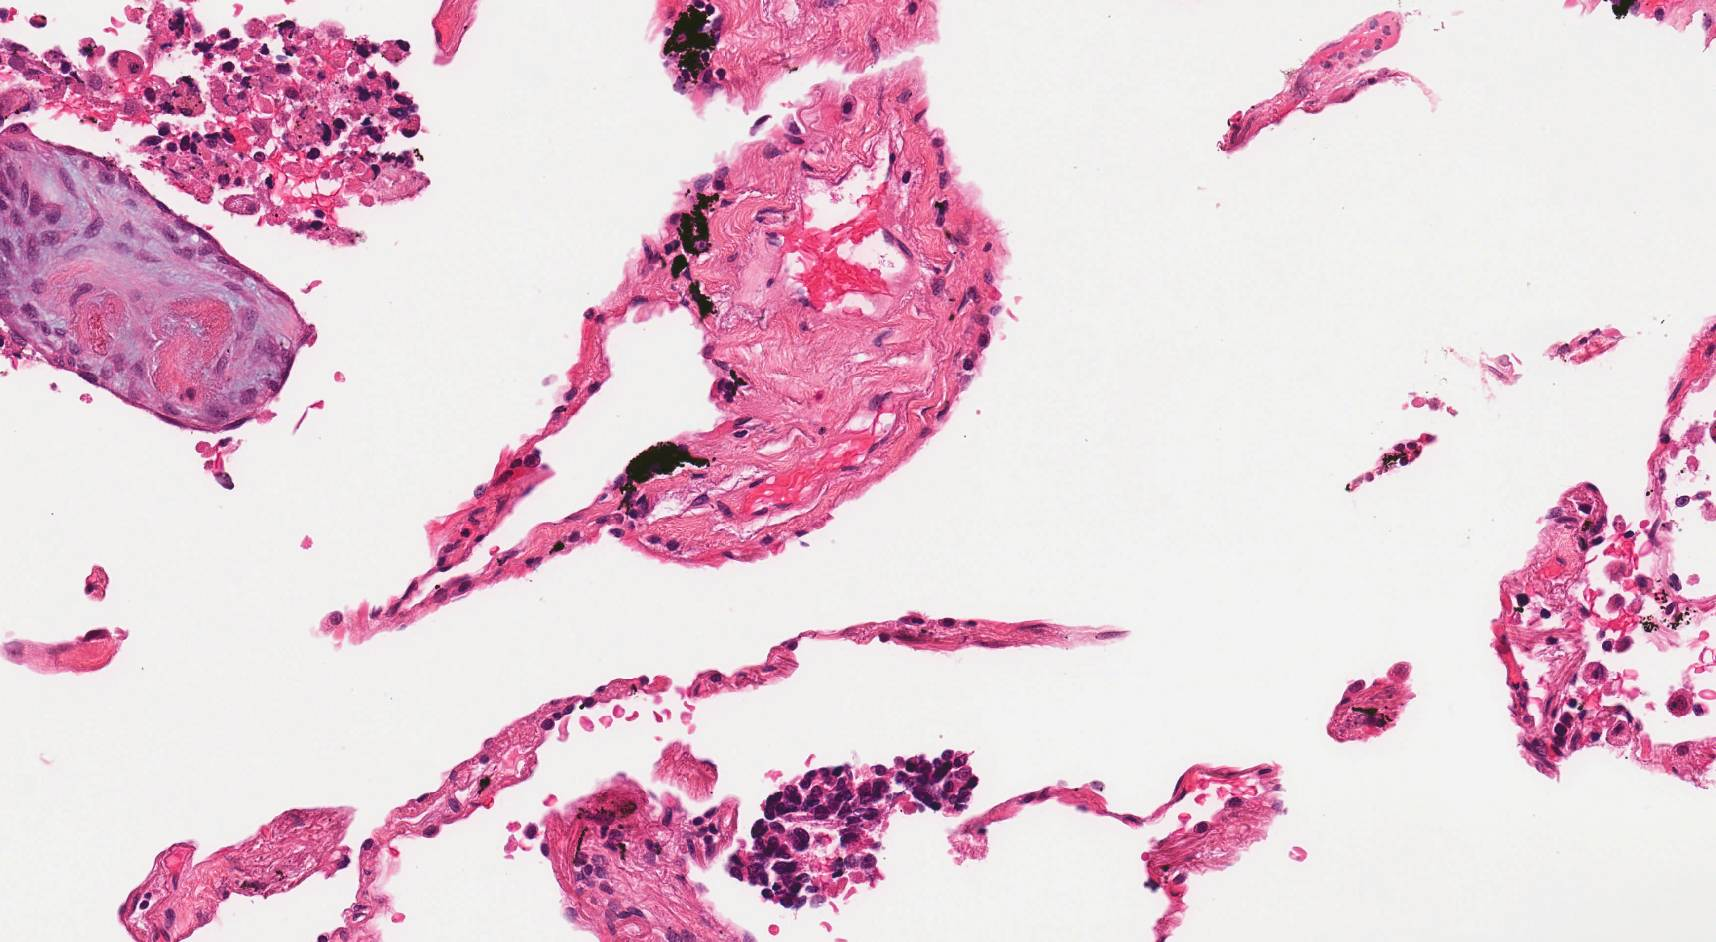stas: (724, 749, 979, 909)
